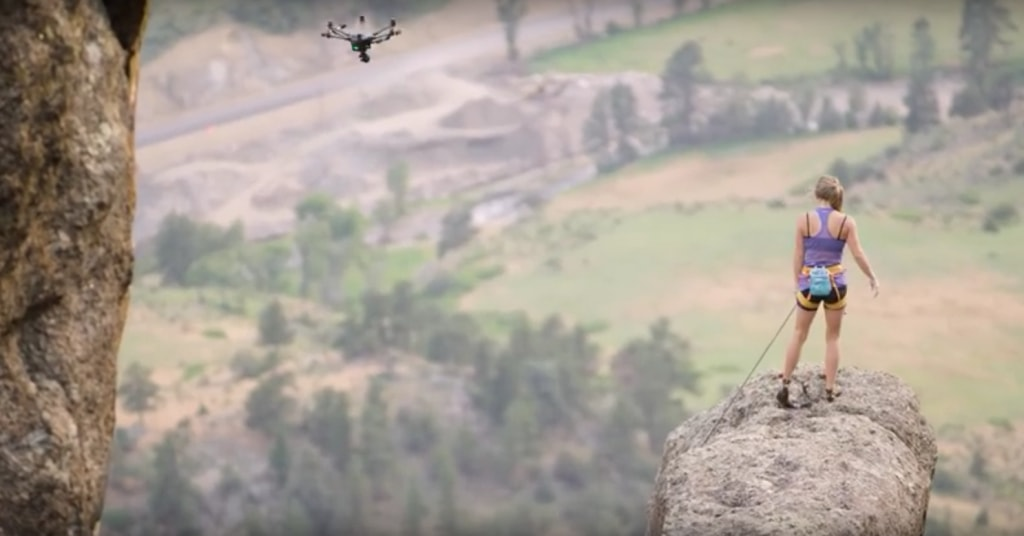drone: (318, 13, 407, 68)
person: (778, 175, 882, 402)
